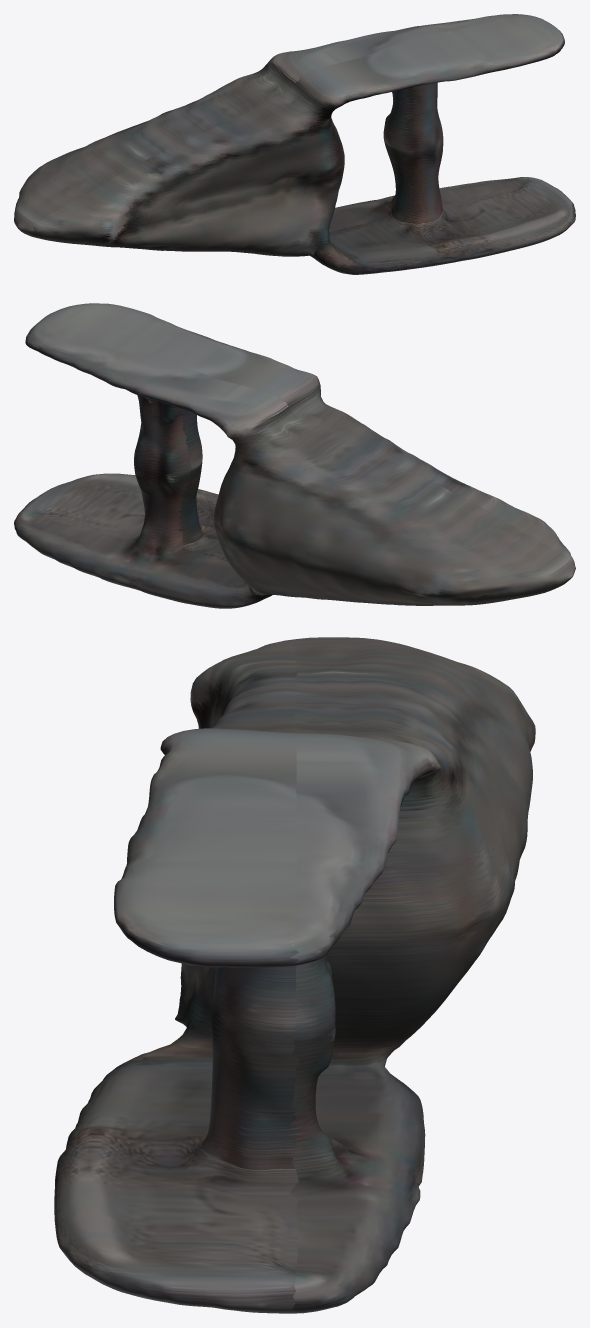
File: kfl-2180.glb
3 views of the same model, one above another, from view 1: azimuth 30°, elevation 25°; view 2: azimuth 150°, elevation 25°; view 3: azimuth 270°, elevation 25° (orthographic). The views are drawn at different scales.
Parts seen in each view (by area): view 1: geometry_0; view 2: geometry_0; view 3: geometry_0.
Boxes of the visible parts, bbox=[...] form: geometry_0: bbox=[14, 14, 575, 274]; geometry_0: bbox=[14, 303, 575, 608]; geometry_0: bbox=[54, 637, 535, 1313].
Size of the model in its own units: 0.991 by 0.3479 by 0.3961.
Materials: 1 (1 with a texture image).
